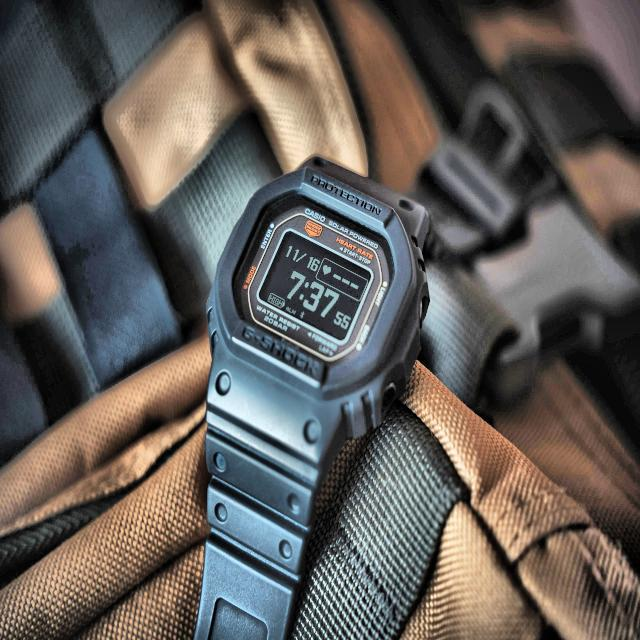Electronic watch: (193, 157, 429, 640)
